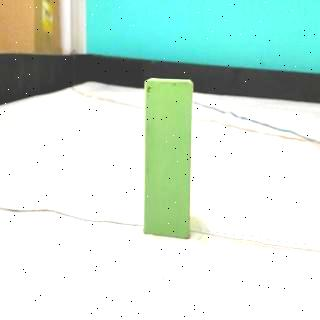greenbox: (144, 78, 192, 240)
